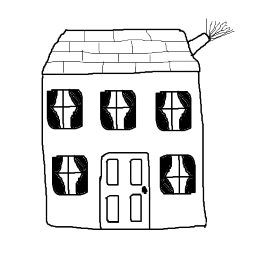closed_window: (46, 151, 93, 201), (157, 148, 200, 202), (95, 89, 142, 135), (151, 86, 195, 134), (45, 86, 86, 132)
door: (95, 140, 155, 236)
roof: (33, 25, 201, 78)
smoking_chimney: (183, 12, 242, 55)
wall: (33, 66, 211, 238)
